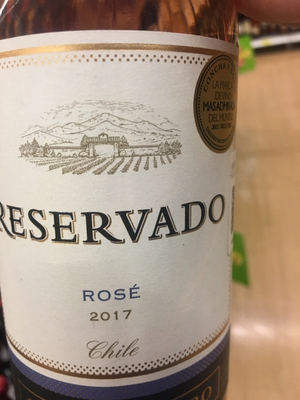reservado rose: (3, 11, 240, 400)
